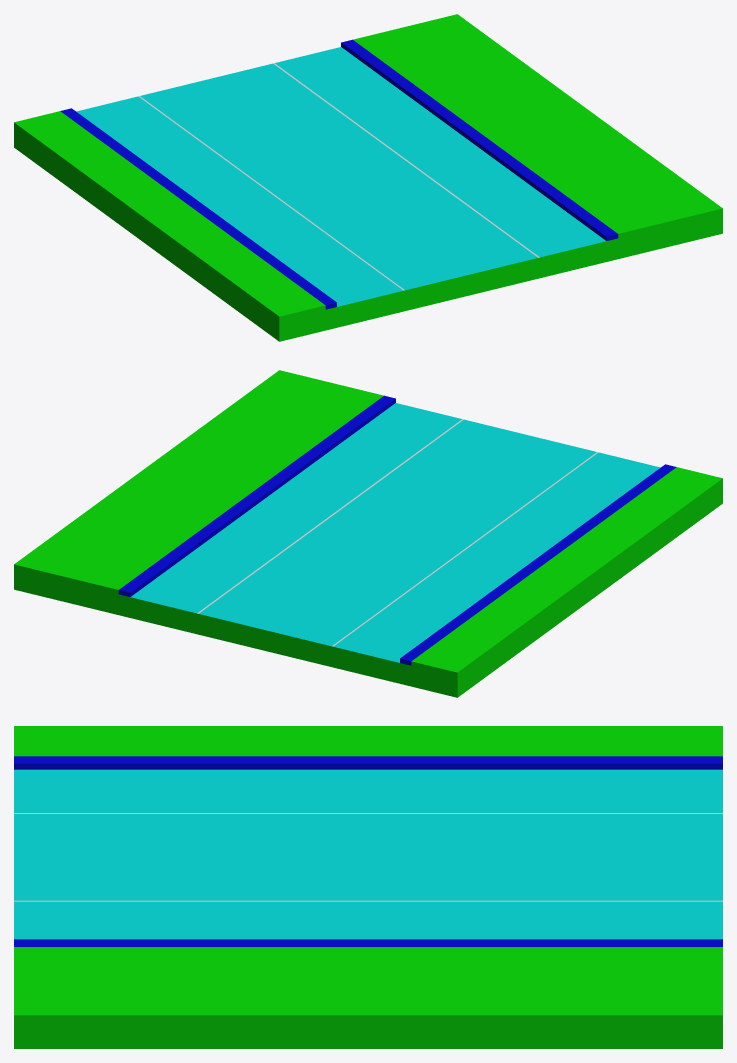
File: straight_road.fbx
The picture shows the model from 3 angles, top to bottom: view 1: azimuth 30°, elevation 25°; view 2: azimuth 150°, elevation 25°; view 3: azimuth 270°, elevation 25°; orthographic projection. The views are drawn at different scales.
Visible parts, largest first — view 1: straight_road; view 2: straight_road; view 3: straight_road.
Boxes of the visible parts, x1=… form: straight_road: x1=14, y1=14, x2=722, y2=341; straight_road: x1=14, y1=370, x2=722, y2=697; straight_road: x1=14, y1=726, x2=722, y2=1048.
Size of the model in its own units: 555 by 30.14 by 575.
